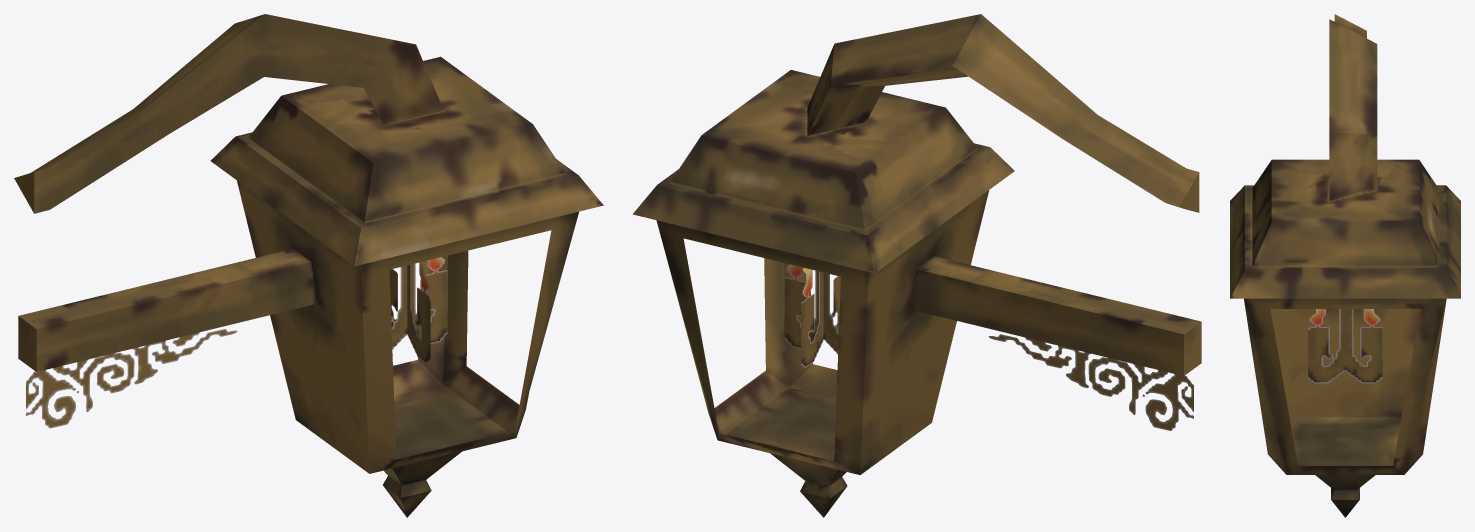
Rendered from lamp.fbx.
3 renders of one model, left to right at view 1: azimuth 30°, elevation 25°; view 2: azimuth 150°, elevation 25°; view 3: azimuth 270°, elevation 25°, orthographic. The views are drawn at different scales.
Visible parts, largest first — view 1: Cube; view 2: Cube; view 3: Cube.
Part boxes in pixels (x1,y1,x2,y2): Cube: (14,14,603,517); Cube: (633,14,1201,517); Cube: (1230,14,1460,517).
Size of the model in its own units: 70.68 by 73.23 by 34.88.
